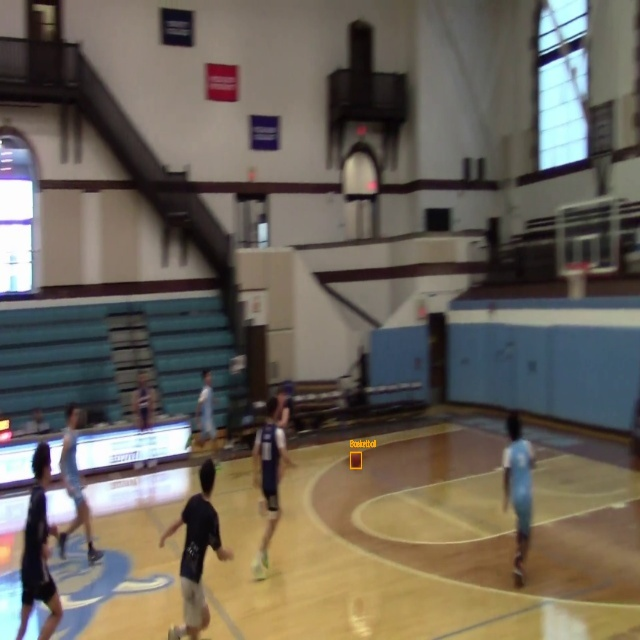Basketball: (350, 452, 362, 469)
